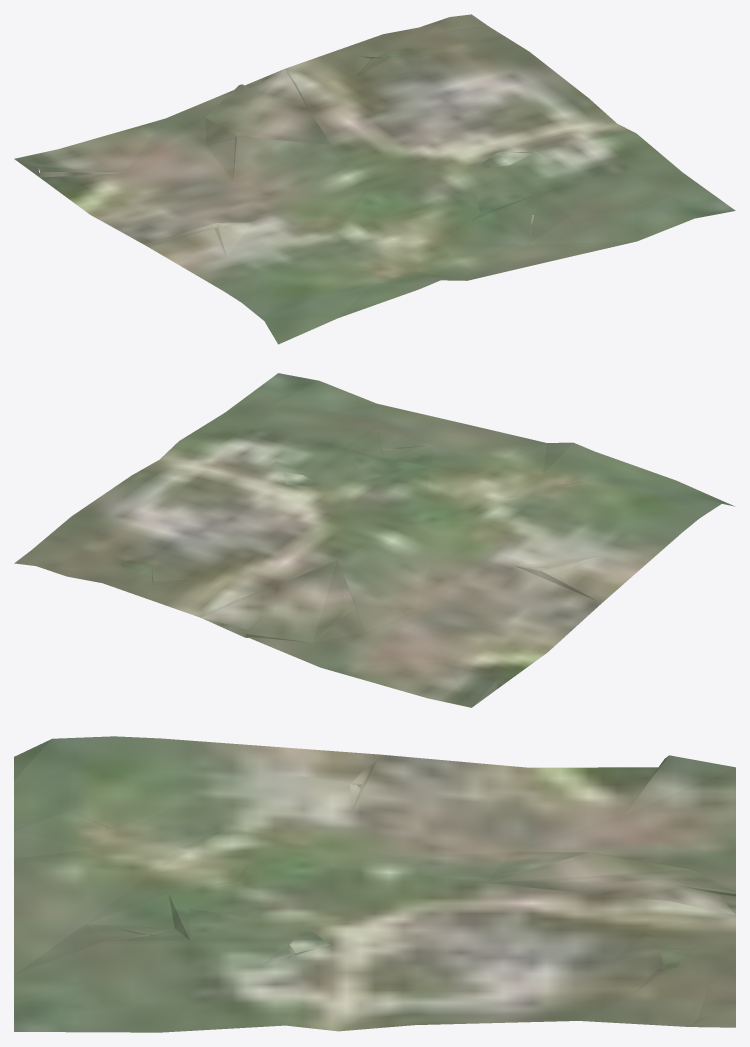
The model's file is Tile__001__001_L15_0.glb.
3 views of the same model, one above another, from view 1: azimuth 30°, elevation 25°; view 2: azimuth 150°, elevation 25°; view 3: azimuth 270°, elevation 25° (orthographic). The views are drawn at different scales.
Visible parts, largest first — view 1: root; view 2: root; view 3: root.
Part boxes in pixels (bbox=[...]): root: bbox=[14, 14, 735, 344]; root: bbox=[14, 373, 734, 707]; root: bbox=[14, 736, 735, 1032].
Size of the model in its own units: 101 by 8.4 by 101.
1 material, 1 textured.
